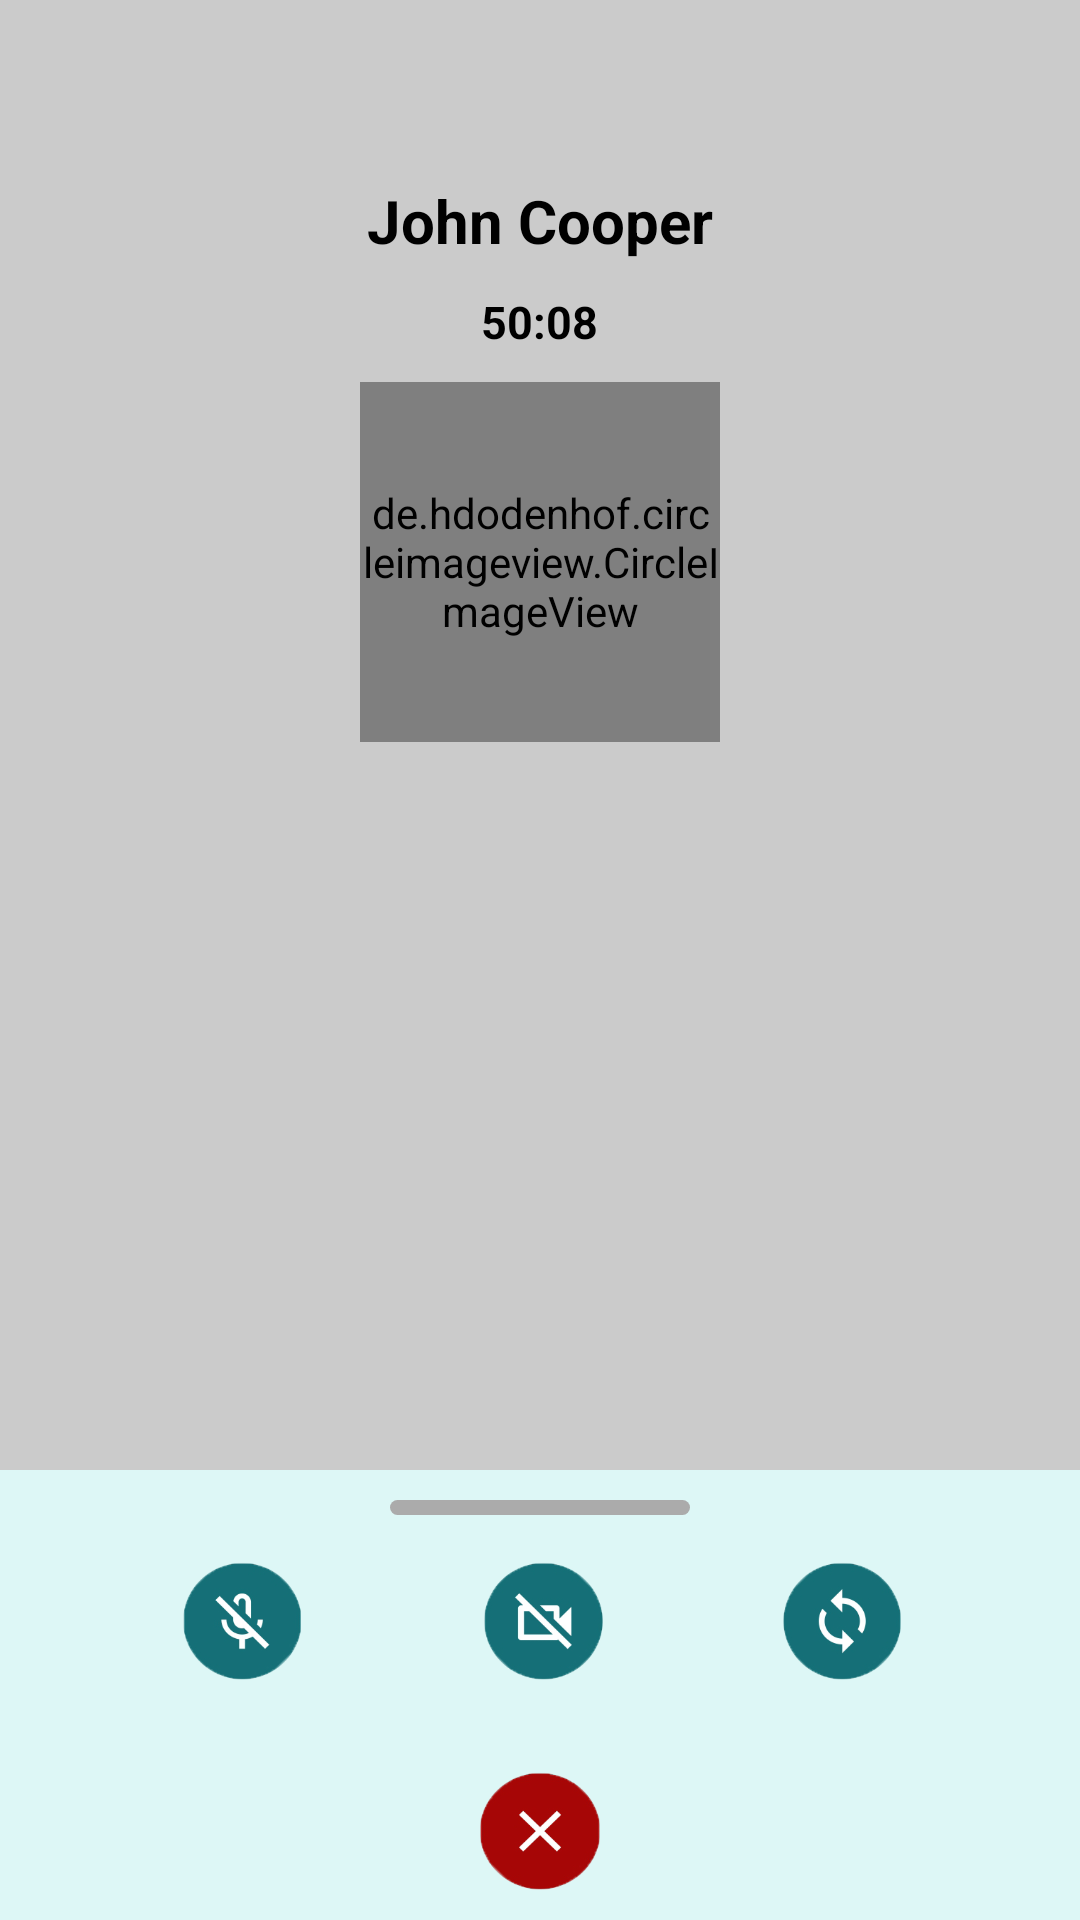

Locate icon controls on the screen. Image size 1080 × 1920, boxes as [x1,y1,x2,y2].
end: [480,1773,600,1890]
